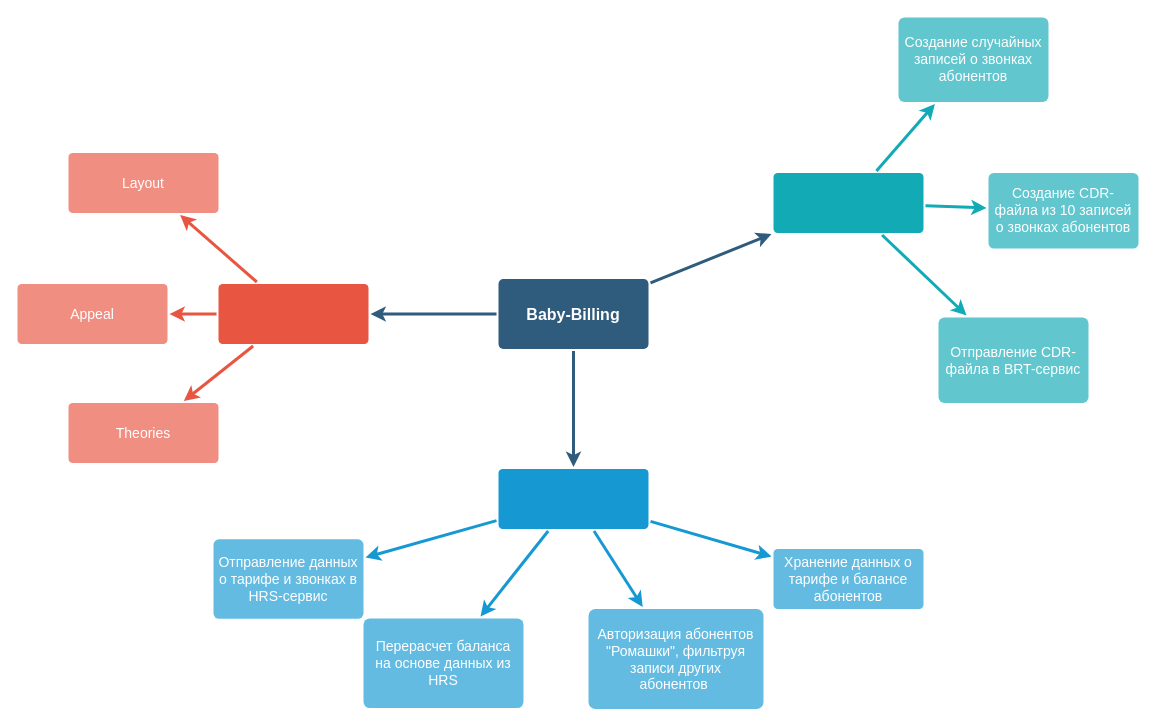
Some shapes in this 1155 by 726 pixel diagram are drawn without their labels. The centre of each missing label's shape, as x and y in pixels:
BRT: [573,498]
HRS: [293,314]
Генератор CDR: [848,202]
